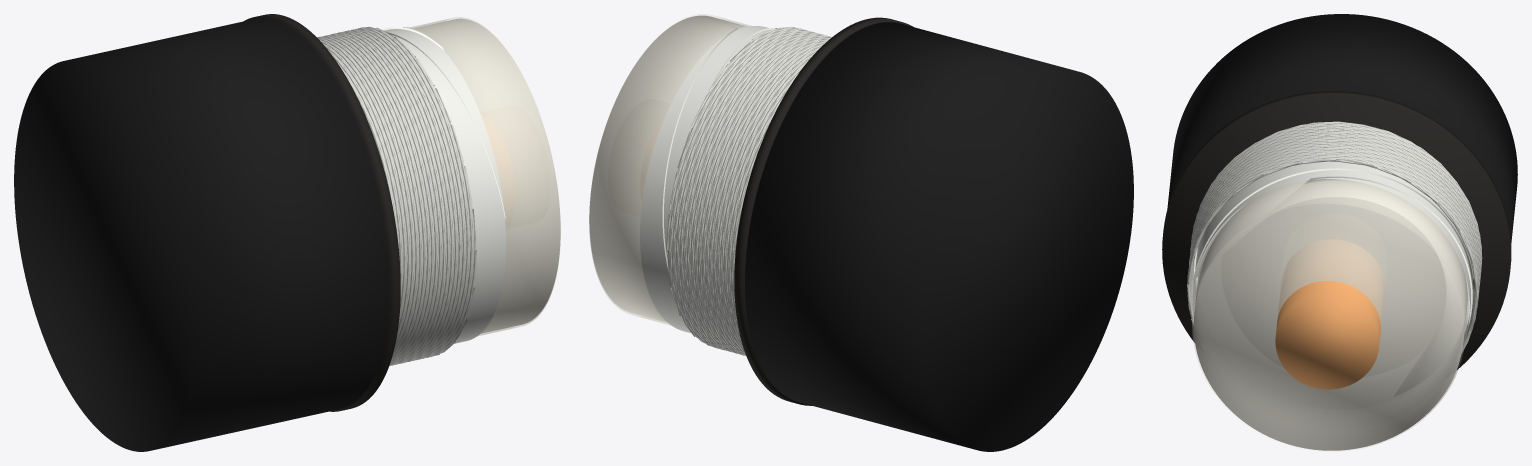
The model's file is rf-lmr900.glb.
The picture shows the model from 3 angles, left to right: view 1: azimuth 30°, elevation 25°; view 2: azimuth 150°, elevation 25°; view 3: azimuth 270°, elevation 25°; orthographic projection. The views are drawn at different scales.
Visible parts, largest first — view 1: matte black pvc jacket body, smooth dielectric skin, gas injected foam dielectric, duobond foil sleeve, jacket cut lip, braid left hand carrier 14, braid left hand carrier 11, braid left hand carrier 17, braid left hand carrier 08, braid left hand carrier 20, braid left hand carrier 12, braid left hand carrier 15 (+17 smaller); view 2: matte black pvc jacket body, smooth dielectric skin, gas injected foam dielectric, duobond foil sleeve, jacket cut lip, braid left hand carrier 05, braid left hand carrier 08, braid left hand carrier 02, braid left hand carrier 11, braid left hand carrier 14, braid left hand carrier 06, braid left hand carrier 20 (+18 smaller); view 3: gas injected foam dielectric, matte black pvc jacket body, jacket cut lip, solid center conductor continuous, smooth dielectric skin, duobond foil sleeve, subtle foil wrap lap, braid left hand carrier 06, braid left hand carrier 09, braid left hand carrier 24, braid left hand carrier 03, braid left hand carrier 18 (+19 smaller).
Boxes of the visible parts, x1,y1,x2,y2 form: matte black pvc jacket body: (14,18,389,451); smooth dielectric skin: (410,17,560,335); gas injected foam dielectric: (414,18,560,333); duobond foil sleeve: (384,27,505,343); jacket cut lip: (244,14,400,411); braid left hand carrier 14: (323,33,469,364); braid left hand carrier 11: (330,27,465,365); braid left hand carrier 17: (320,32,473,364); braid left hand carrier 08: (327,28,460,364); braid left hand carrier 20: (318,32,476,362); braid left hand carrier 12: (328,26,466,365); braid left hand carrier 15: (323,32,470,365); matte black pvc jacket body: (745,22,1133,451); smooth dielectric skin: (589,14,751,325); gas injected foam dielectric: (589,15,746,322); duobond foil sleeve: (640,26,772,333); jacket cut lip: (734,17,913,405); braid left hand carrier 05: (670,30,830,354); braid left hand carrier 08: (666,29,831,352); braid left hand carrier 02: (673,31,828,354); braid left hand carrier 11: (691,28,828,353); braid left hand carrier 14: (688,27,825,350); braid left hand carrier 06: (668,29,826,352); braid left hand carrier 20: (681,33,823,354); gas injected foam dielectric: (1193,180,1467,450); matte black pvc jacket body: (1167,14,1517,243); jacket cut lip: (1162,91,1511,369); solid center conductor continuous: (1275,239,1384,389); smooth dielectric skin: (1192,180,1468,451); duobond foil sleeve: (1192,161,1473,345); subtle foil wrap lap: (1193,168,1473,396); braid left hand carrier 06: (1192,128,1481,353); braid left hand carrier 09: (1190,130,1480,285); braid left hand carrier 24: (1191,125,1481,288); braid left hand carrier 03: (1191,127,1480,288); braid left hand carrier 18: (1187,122,1481,284).
Bounding box in the file's own units: 6.65 × 5.58 × 5.68.
